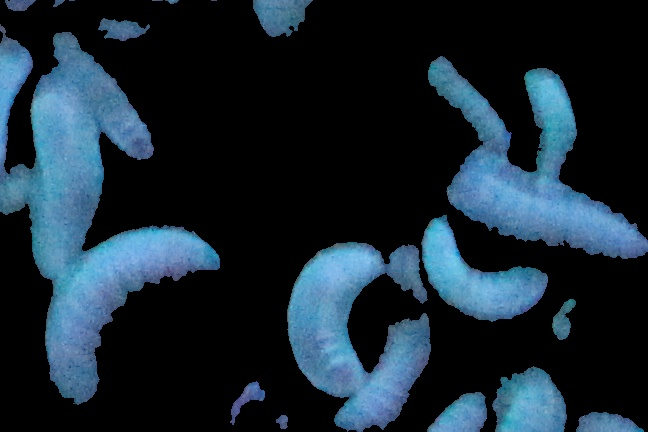larvae: (42, 222, 221, 408), (428, 158, 648, 257), (287, 238, 384, 392), (418, 221, 551, 332), (53, 27, 155, 165), (29, 80, 99, 271), (420, 44, 522, 157), (336, 315, 431, 426), (518, 59, 580, 175), (496, 354, 571, 432), (1, 39, 32, 184), (424, 386, 489, 432)
